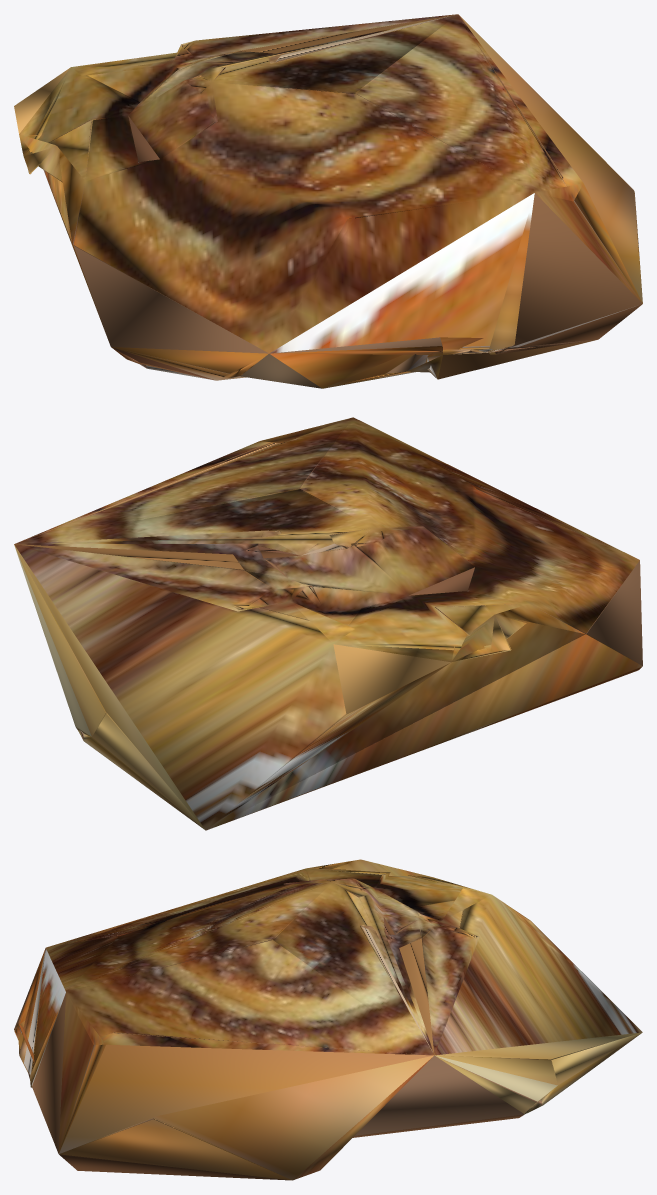
The model's file is cinnamon_616.obj.
The picture shows the model from 3 angles, top to bottom: view 1: azimuth 30°, elevation 25°; view 2: azimuth 150°, elevation 25°; view 3: azimuth 270°, elevation 25°; orthographic projection. The views are drawn at different scales.
Bounding box in the file's own units: 106 × 38.7 × 119.
Materials: 1 (1 with a texture image).
